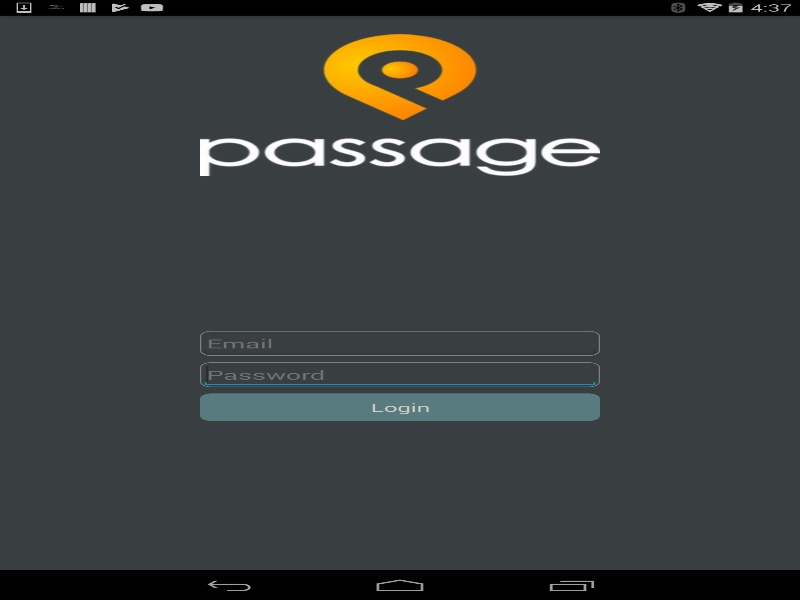Input: (200, 330, 600, 355), (200, 362, 600, 387)
